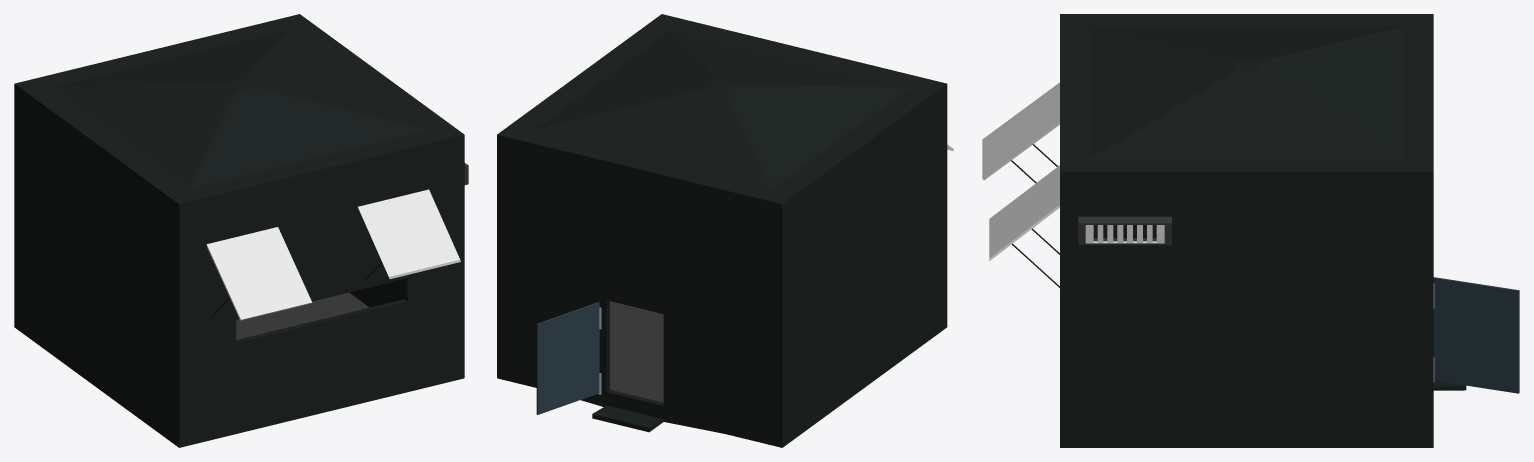
File: Home.fbx
3 views of the same model, side by side, from view 1: azimuth 30°, elevation 25°; view 2: azimuth 150°, elevation 25°; view 3: azimuth 270°, elevation 25° (orthographic). The views are drawn at different scales.
Parts seen in each view (by area): view 1: Cube.001; view 2: Cube.001; view 3: Cube.001.
Boxes of the visible parts, box(x1,y1,x2,y2) form: Cube.001: box(14, 14, 468, 447); Cube.001: box(497, 14, 953, 447); Cube.001: box(982, 14, 1519, 447).
Bounding box in the file's own units: 834 × 723 × 1151.
